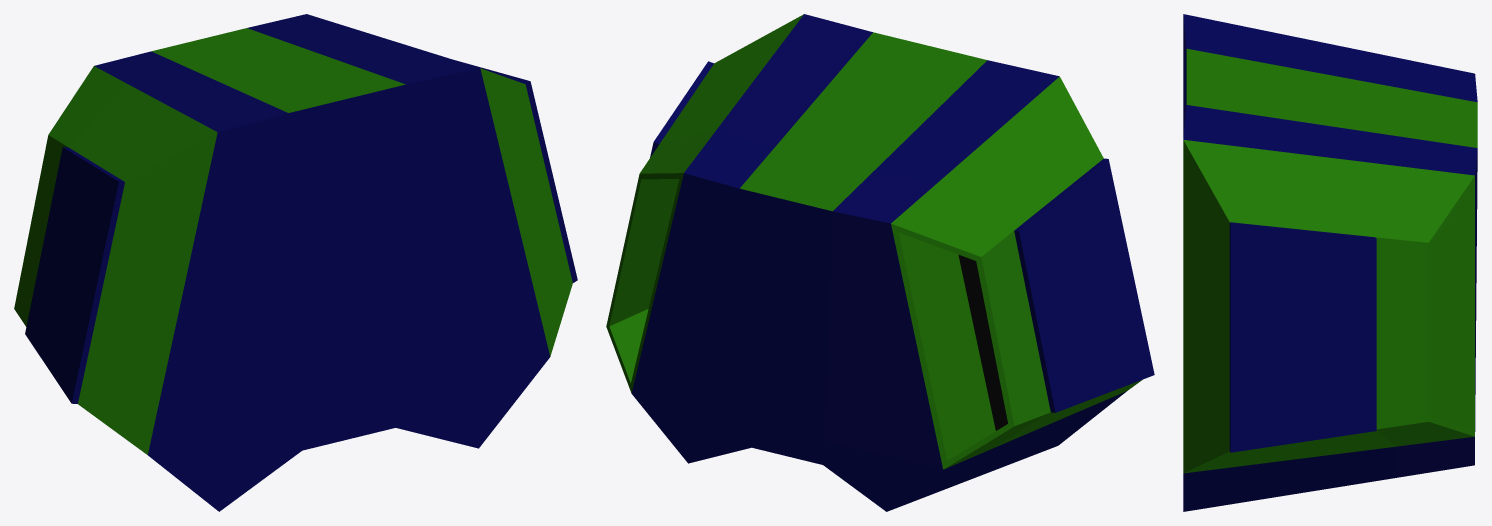
Rendered from ARC_Engine_Part_Wipeout.fbx.
The picture shows the model from 3 angles, left to right: view 1: azimuth 30°, elevation 25°; view 2: azimuth 150°, elevation 25°; view 3: azimuth 270°, elevation 25°; orthographic projection. The views are drawn at different scales.
Parts seen in each view (by area): view 1: ARC_Engine_Ship; view 2: ARC_Engine_Ship; view 3: ARC_Engine_Ship.
Part boxes in pixels (x1,y1,x2,y2): ARC_Engine_Ship: [14, 14, 577, 511]; ARC_Engine_Ship: [606, 14, 1154, 511]; ARC_Engine_Ship: [1183, 14, 1477, 511].
Size of the model in its own units: 3.75 by 2.69 by 1.93.
